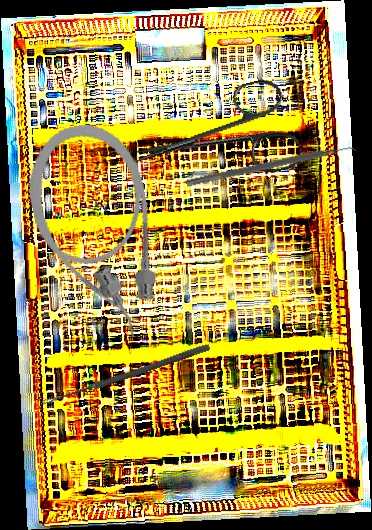Cannula: (18, 115, 172, 352)
Iris Scissors: (122, 74, 305, 205)
Spatula Surgical: (185, 140, 359, 195)
Surgical Spoon: (40, 342, 211, 408)
